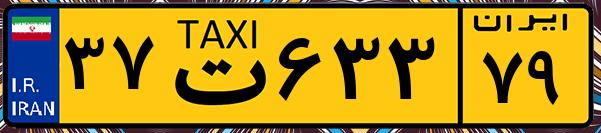3: (385, 28, 445, 110), (330, 28, 385, 110), (57, 26, 110, 100)
6: (270, 28, 330, 110)
7: (475, 38, 525, 113), (110, 28, 158, 98)
9: (525, 38, 570, 115)
ت: (158, 12, 270, 120)
